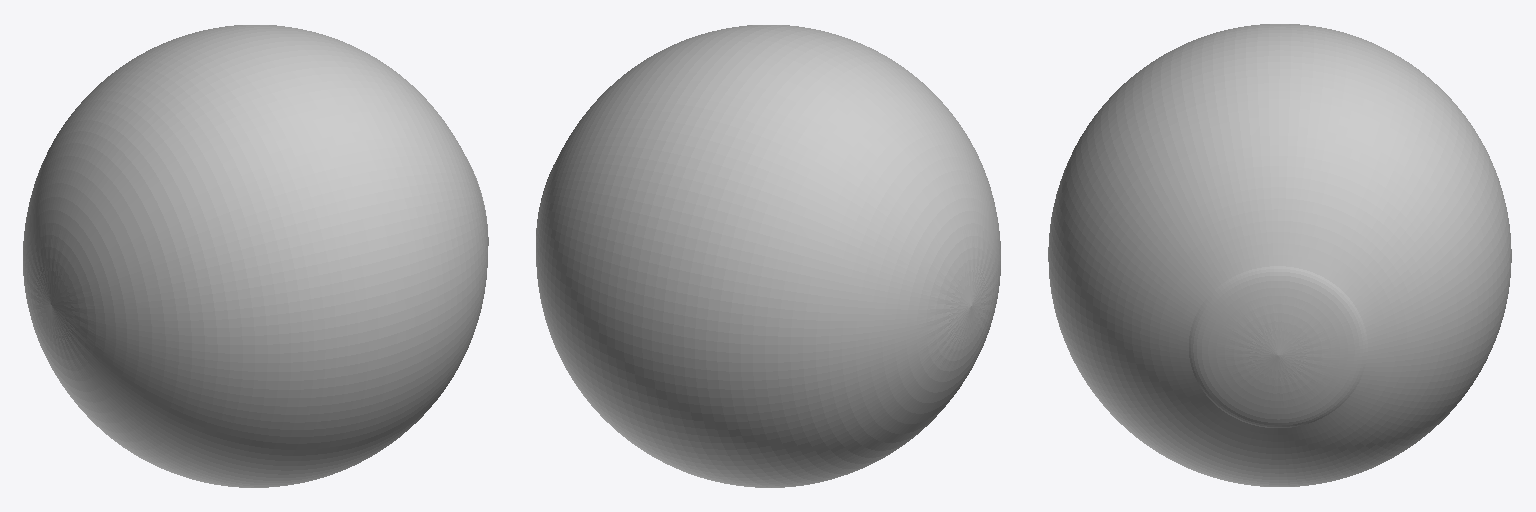
File: Soul.obj
3 views of the same model, side by side, from view 1: azimuth 30°, elevation 25°; view 2: azimuth 150°, elevation 25°; view 3: azimuth 270°, elevation 25° (orthographic).
Parts seen in each view (by area): view 1: eyeball_1_eye_1; view 2: eyeball_1_eye_1; view 3: eyeball_1_eye_1, eyeball_1.003_eye_1.003.
Part boxes in pixels (left/top/right/bottom): eyeball_1_eye_1: left=23, top=25, right=487, bottom=487; eyeball_1_eye_1: left=536, top=25, right=1000, bottom=487; eyeball_1_eye_1: left=1048, top=24, right=1511, bottom=486; eyeball_1.003_eye_1.003: left=1189, top=266, right=1367, bottom=427.
Size of the model in its own units: 0.3921 by 0.3859 by 0.3859.